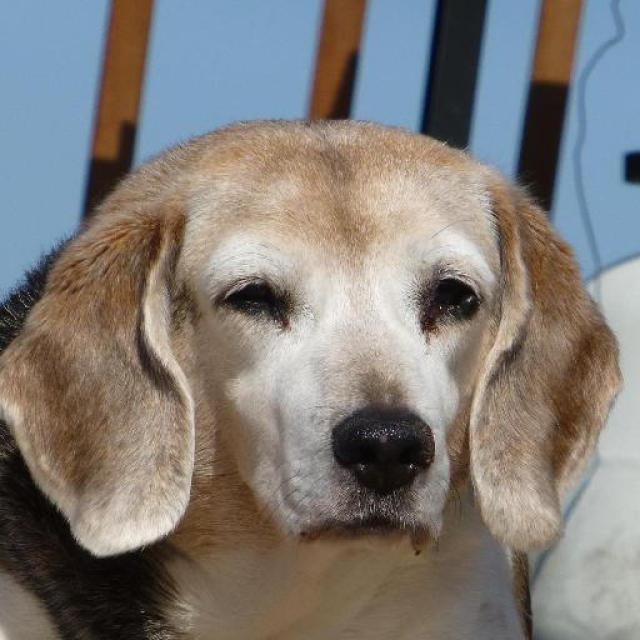adult_dog: (0, 121, 622, 640)
